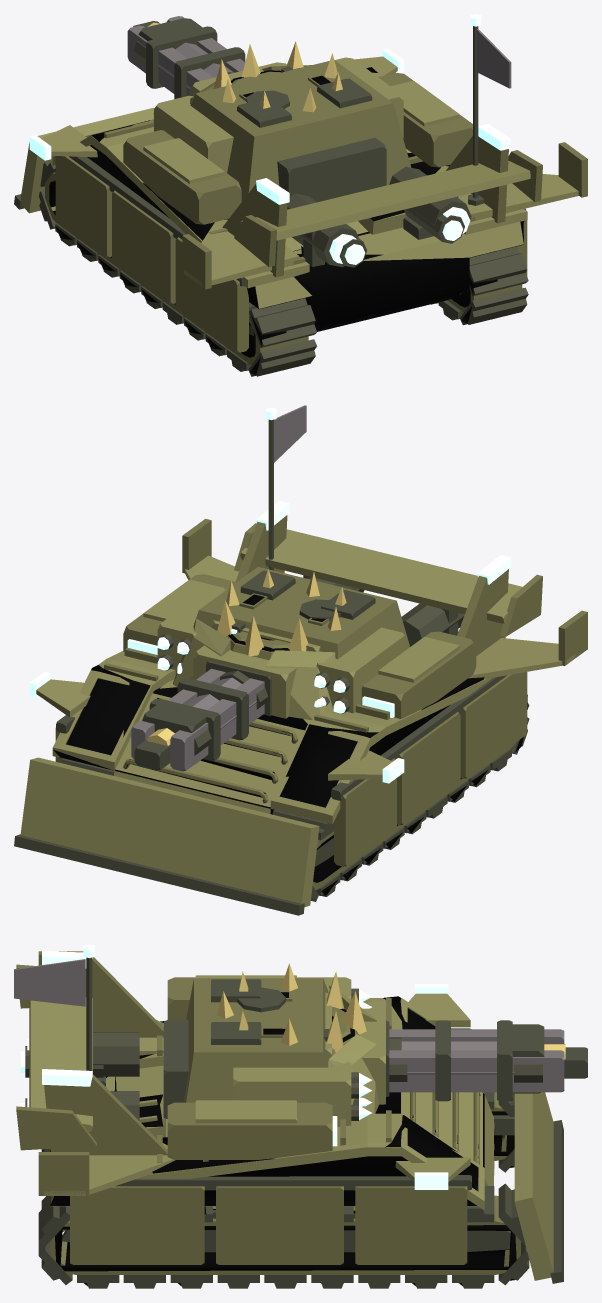
Rendered from tank.glb.
The picture shows the model from 3 angles, top to bottom: view 1: azimuth 30°, elevation 25°; view 2: azimuth 150°, elevation 25°; view 3: azimuth 270°, elevation 25°; orthographic projection. The views are drawn at different scales.
Visible parts, largest first — view 1: T_heavy_m, S_skirt_m, Hull_ol, S_pods_m, Hull, Hull_gear, R_jet_m, R_spoiler_m, T_twin_m, R_fins_m, T_rail_m, T_missile_m (+5 smaller); view 2: S_blade_m, Hull, S_skirt_m, T_heavy_m, Hull_ol, R_spoiler_m, S_pods_m, R_jet_m, T_rail_m, T_missile_m, R_fins_m, T_twin_m (+6 smaller); view 3: S_skirt_m, Hull, T_heavy_m, Hull_ol, S_pods_m, Hull_gear, R_fins_m, T_rail_m, S_blade_m, R_spoiler_m, R_jet_m, T_missile_m (+7 smaller).
Boxes of the visible parts, x1,y1,x2,y2 form: T_heavy_m: [138, 18, 411, 201]; S_skirt_m: [55, 156, 527, 352]; Hull_ol: [49, 67, 524, 374]; S_pods_m: [123, 72, 472, 224]; Hull: [45, 72, 527, 364]; Hull_gear: [39, 160, 528, 376]; R_jet_m: [182, 142, 587, 289]; R_spoiler_m: [234, 150, 542, 266]; T_twin_m: [133, 41, 386, 202]; R_fins_m: [222, 124, 511, 277]; T_rail_m: [127, 16, 245, 98]; T_missile_m: [153, 57, 403, 172]; S_blade_m: [14, 757, 319, 915]; Hull: [52, 647, 515, 889]; S_skirt_m: [55, 672, 527, 866]; T_heavy_m: [142, 567, 409, 760]; Hull_ol: [53, 665, 527, 895]; R_spoiler_m: [234, 523, 542, 636]; S_pods_m: [123, 574, 476, 718]; R_jet_m: [182, 518, 587, 679]; T_rail_m: [131, 660, 271, 771]; T_missile_m: [157, 587, 407, 713]; R_fins_m: [235, 501, 511, 655]; T_twin_m: [193, 599, 340, 755]; S_skirt_m: [70, 1028, 471, 1264]; Hull: [50, 998, 520, 1274]; T_heavy_m: [183, 978, 544, 1113]; Hull_ol: [50, 996, 516, 1286]; S_pods_m: [167, 975, 337, 1159]; Hull_gear: [38, 1092, 529, 1288]; R_fins_m: [42, 951, 167, 1155]; T_rail_m: [386, 1020, 564, 1101]; S_blade_m: [493, 1092, 563, 1283]; R_spoiler_m: [16, 964, 96, 1150]; R_jet_m: [27, 951, 175, 1195]; T_missile_m: [233, 977, 371, 1126].
Size of the model in its own units: 4.3 by 3.2 by 5.11.
